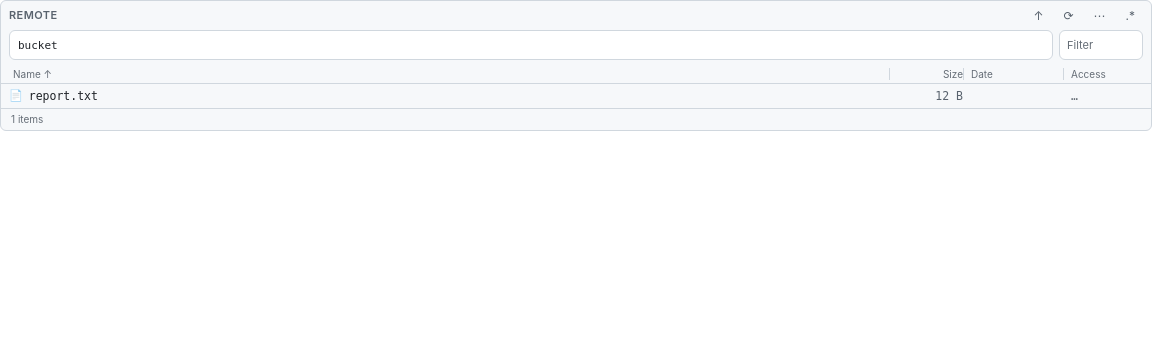
Test: S3 public URL clipboard feedback › reports success only after the system clipboard write completes
Click the option "📄 report.txt 12 B …" at {"x": 63, "y": 96}, box [9,89,1078,103]
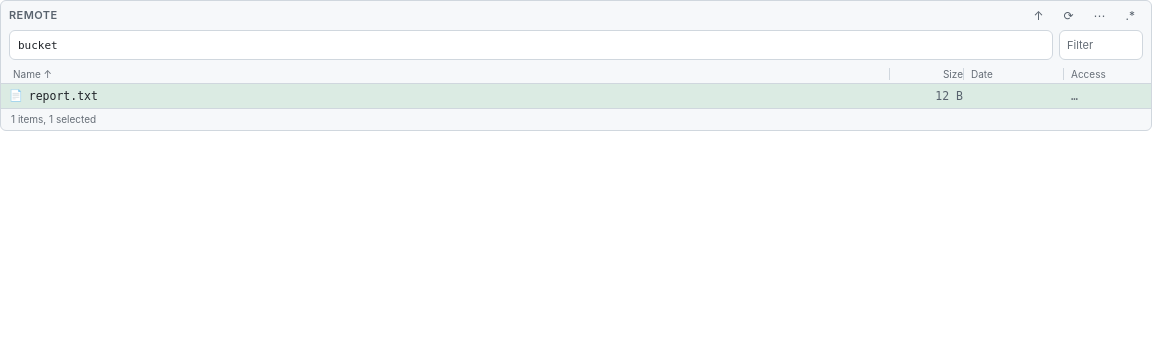
Click the button named "Remote pane actions" at {"x": 1100, "y": 16}, box [1086,6,1114,25]
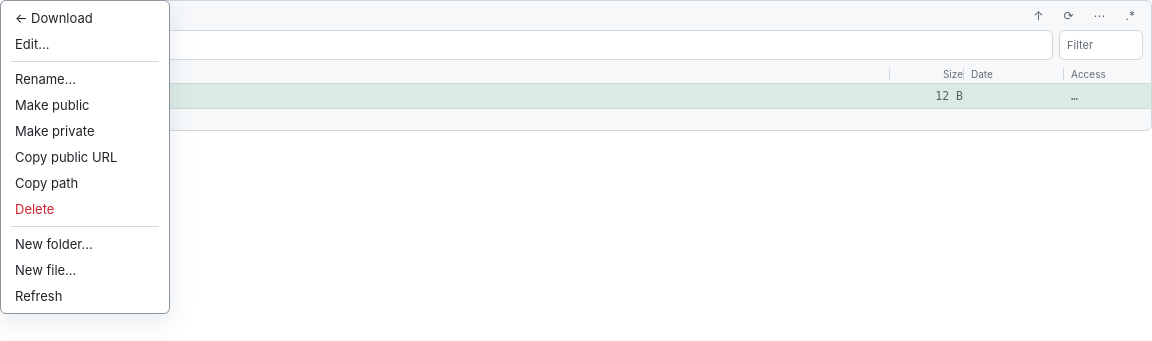
Click the menu item "Copy public URL" at {"x": 85, "y": 157}, box [5,144,165,170]
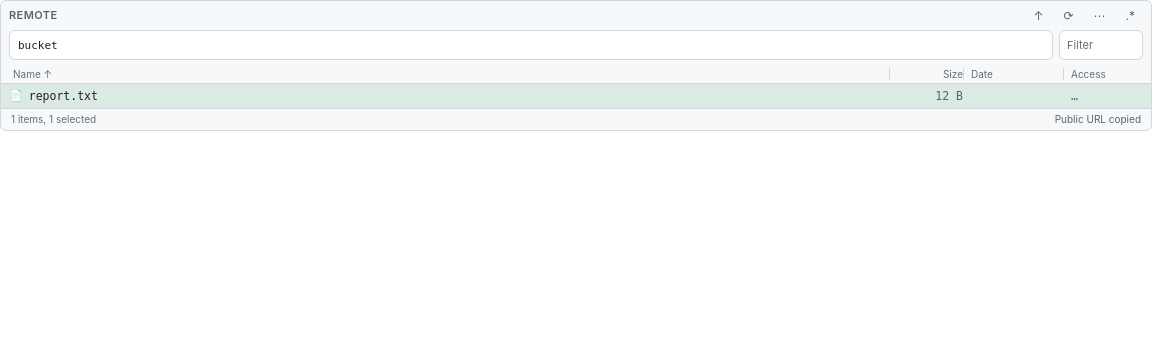
Now the message reads "Public URL copied", box [1055,113,1141,125]
